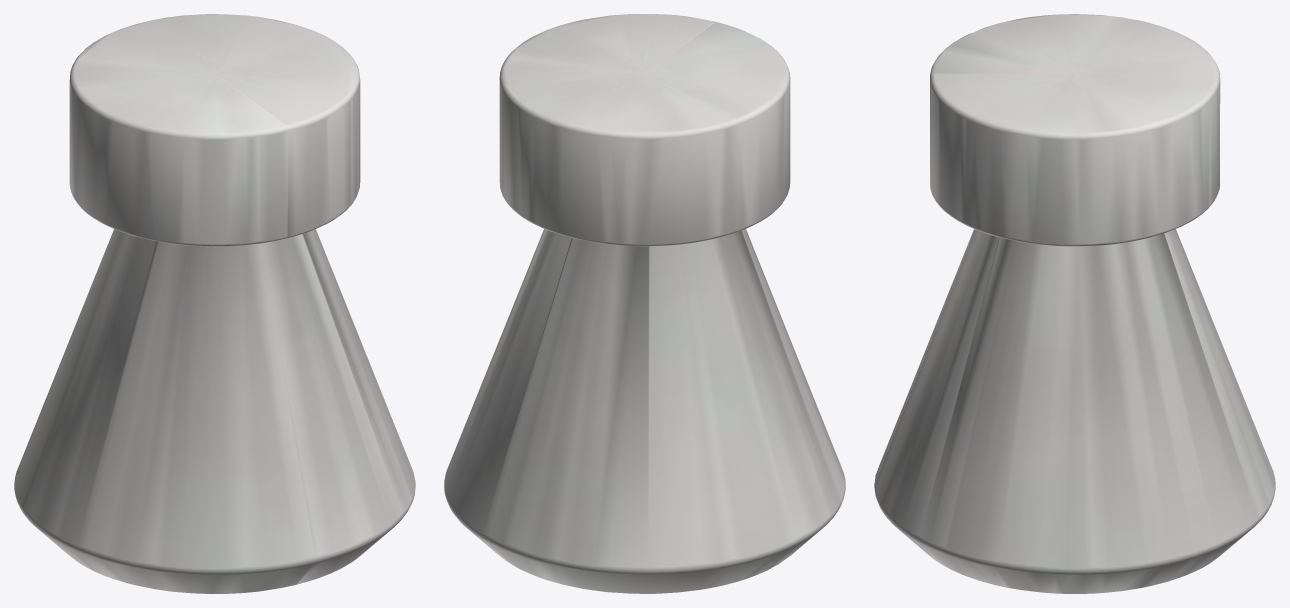
File: 03_vez_bila.glb
3 renders of one model, left to right at view 1: azimuth 30°, elevation 25°; view 2: azimuth 150°, elevation 25°; view 3: azimuth 270°, elevation 25°, orthographic.
Parts seen in each view (by area): view 1: 03_vez_bila; view 2: 03_vez_bila; view 3: 03_vez_bila.
Part boxes in pixels (x1,y1,x2,y2): 03_vez_bila: (14,14,415,593); 03_vez_bila: (444,14,845,593); 03_vez_bila: (874,14,1275,593).
Size of the model in its own units: 0.0427 by 0.0531 by 0.0427.
1 material, 1 textured.
